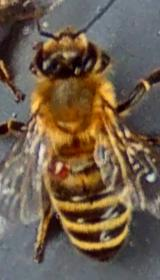varroa_mite: (42, 154, 76, 182)
